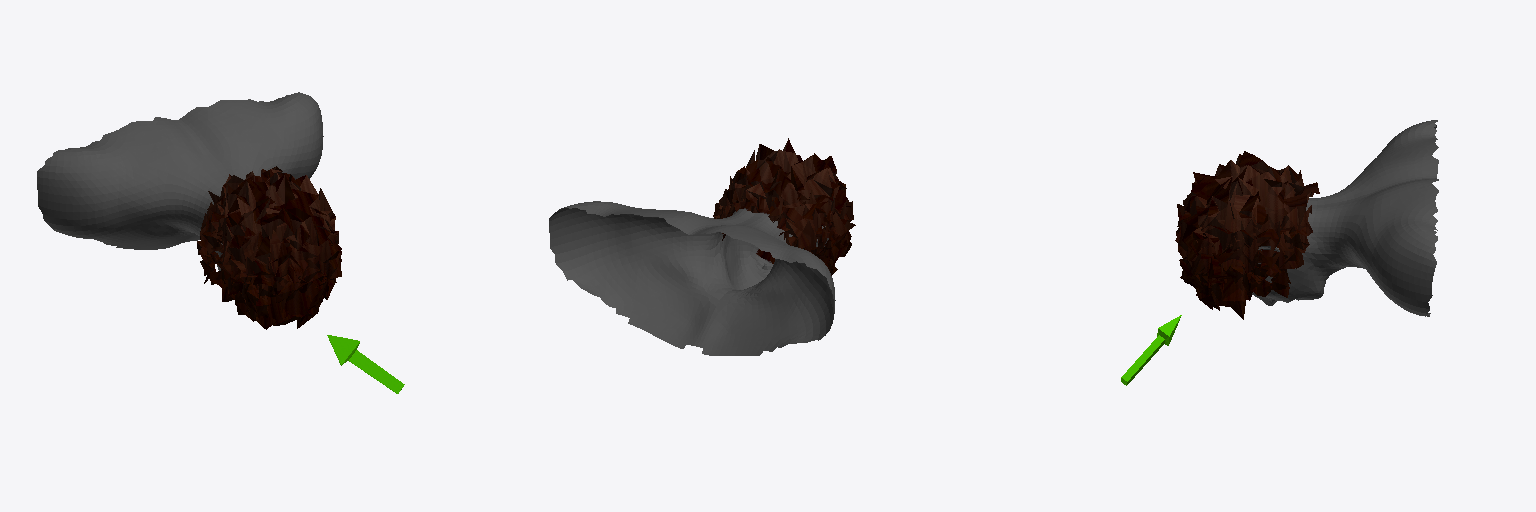
The picture shows the model from 3 angles: view 1: azimuth 30°, elevation 25°; view 2: azimuth 150°, elevation 25°; view 3: azimuth 270°, elevation 25°; orthographic projection.
Visible parts, largest first — view 1: Eyes; view 2: Eyes; view 3: Eyes.
Boxes of the visible parts, x1,y1,x2,y2 form: Eyes: [37, 92, 404, 393]; Eyes: [549, 138, 855, 355]; Eyes: [1121, 120, 1438, 385].
Bounding box in the file's own units: 62.99 × 41.69 × 61.16.
Materials: 1 (1 with a texture image).